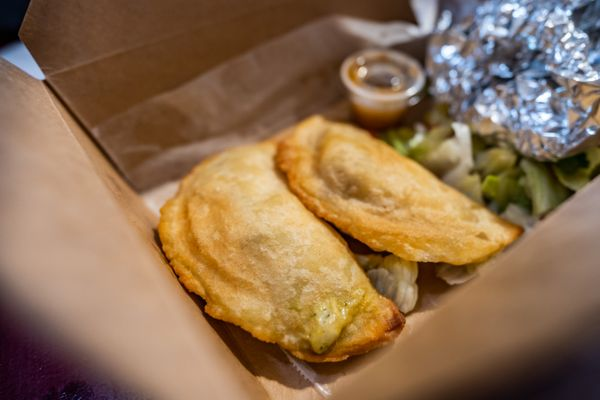soup: (156, 113, 531, 365)
